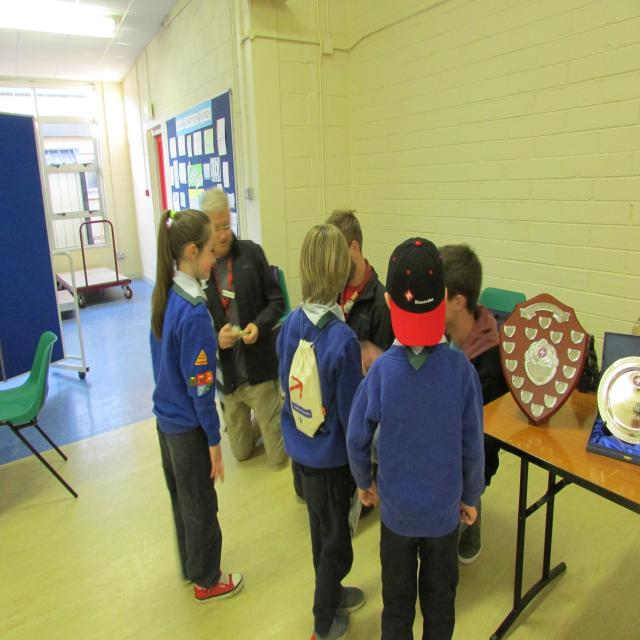body: (343, 232, 489, 640), (148, 207, 245, 602), (275, 222, 366, 640), (290, 208, 397, 522), (426, 241, 512, 566), (199, 187, 289, 468)
